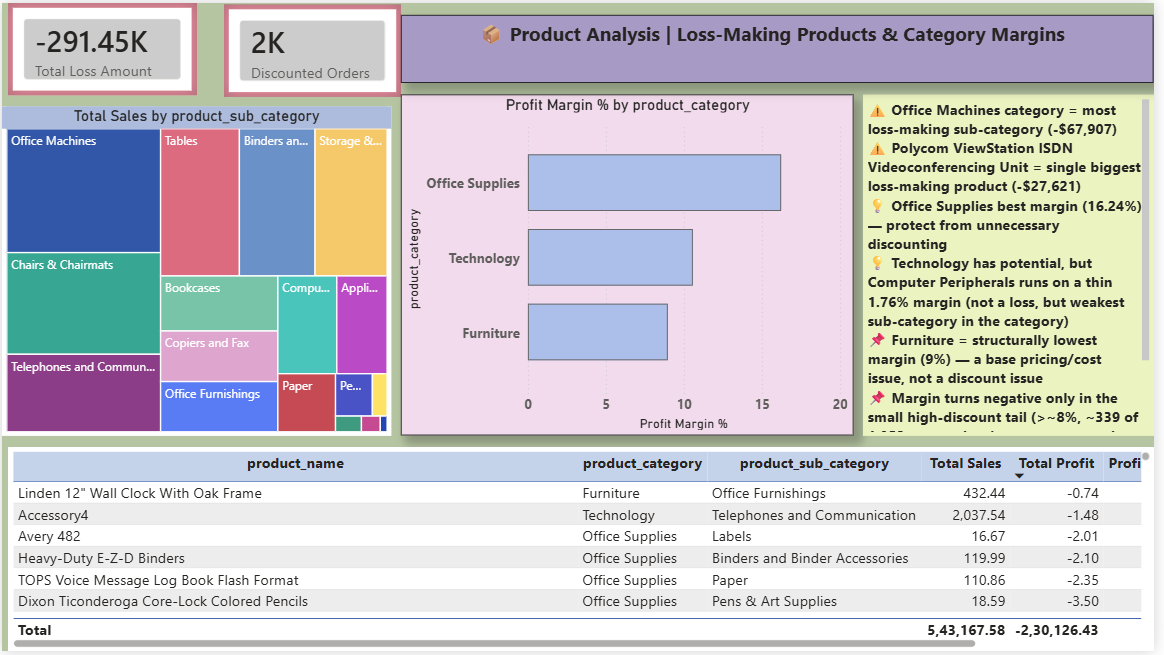

The page's visual inventory and layout, read from the dashboard file:
{"tool":"powerbi","page":{"name":" Product Analysis","canvas":[1280,720],"ordinal":3},"visuals":[{"type":"cardVisual","fields":{"Data":["_Measures.Total Loss Amount"]},"box":[6.5,0,209.8,102.5],"z":0},{"type":"cardVisual","fields":{"Data":["_Measures.Discounted Orders"]},"box":[247.2,1.6,196.8,102.5],"z":1000},{"type":"clusteredBarChart","fields":{"Category":["SuperStoreUs_data.product_category"],"Y":["_Measures.Profit Margin %"]},"box":[444,102.5,502.6,379],"z":2000},{"type":"treemap","fields":{"Group":["SuperStoreUs_data.product_sub_category"],"Values":["_Measures.Total Sales"]},"box":[0,115.5,432.7,366],"z":3000},{"type":"tableEx","fields":{"Values":["SuperStoreUs_data.product_name","SuperStoreUs_data.product_category","SuperStoreUs_data.product_sub_category","_Measures.Total Sales","_Measures.Total Profit","_Measures.Profit Margin %","_Measures.Avg Discount %"]},"box":[6.5,492.8,1273.6,227.7],"z":4000},{"type":"textbox","box":[957,102,323,379],"z":5000},{"type":"textbox","box":[444,13,836,75],"z":5001}]}

Visuals, with their boxes in screenshot pixels (x1, y1, x2, y2), scaled from the page's 1280x720 canvas onto the 1164x655 screenshot:
cardVisual - _Measures.Total Loss Amount: (6,0,197,93)
cardVisual - _Measures.Discounted Orders: (225,1,404,95)
clusteredBarChart - SuperStoreUs_data.product_category x _Measures.Profit Margin %: (404,93,861,438)
treemap - SuperStoreUs_data.product_sub_category x _Measures.Total Sales: (0,105,393,438)
tableEx - SuperStoreUs_data.product_name x SuperStoreUs_data.product_category: (6,448,1163,654)
textbox: (870,93,1163,438)
textbox: (404,12,1163,80)
